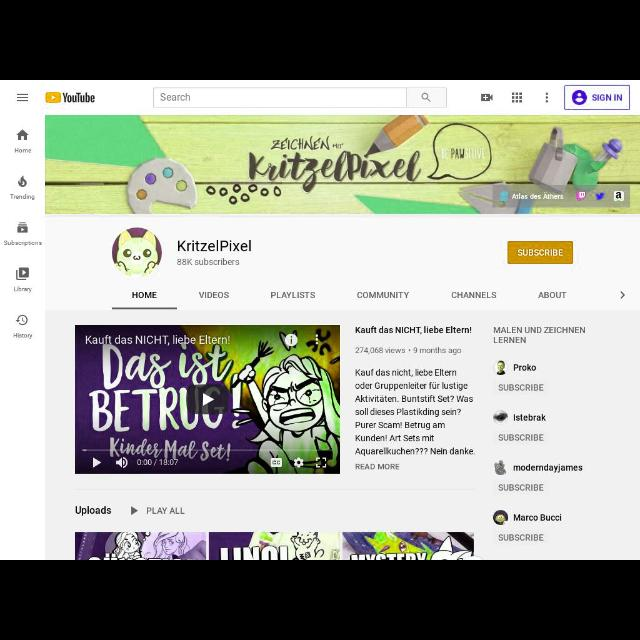button: (406, 89, 446, 107)
icon: (16, 266, 28, 280), (16, 176, 28, 188), (16, 314, 28, 326), (511, 91, 522, 102), (16, 92, 28, 102), (18, 129, 28, 141), (421, 91, 431, 103), (480, 92, 492, 101), (17, 222, 27, 232), (544, 91, 550, 105), (618, 290, 626, 300), (130, 506, 138, 516)
image: (45, 116, 639, 214), (76, 325, 340, 473), (74, 532, 206, 560), (342, 532, 476, 558), (210, 533, 340, 559), (114, 228, 160, 276), (46, 90, 94, 104), (492, 408, 508, 426), (494, 458, 508, 474), (494, 510, 508, 526), (572, 90, 586, 104), (494, 361, 508, 375)
input: (154, 88, 406, 108)
multitab: (113, 286, 582, 308)
text: (356, 369, 476, 456), (494, 327, 584, 343), (356, 347, 462, 357), (354, 326, 472, 334), (178, 240, 252, 252), (177, 258, 240, 268), (514, 465, 582, 473), (516, 248, 564, 258), (498, 382, 546, 392), (498, 483, 544, 493), (270, 290, 314, 300), (452, 290, 496, 300), (357, 291, 409, 299), (514, 514, 562, 522), (498, 534, 546, 542), (4, 238, 42, 248), (354, 463, 400, 471), (500, 434, 544, 442), (512, 413, 546, 423), (160, 92, 192, 102), (147, 507, 186, 515), (538, 290, 566, 300), (76, 506, 110, 514), (198, 291, 230, 299), (9, 193, 35, 201), (132, 292, 156, 300), (512, 364, 536, 372), (592, 94, 622, 100), (12, 332, 34, 340), (14, 286, 32, 292), (15, 149, 30, 153)
textbutton: (565, 86, 631, 110), (508, 240, 574, 264)
